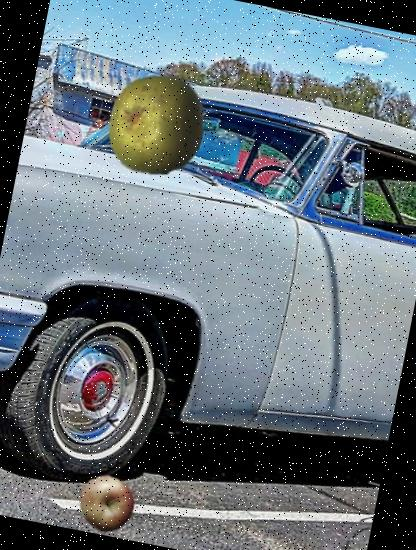Apple: (72, 470, 140, 538)
Pomelo: (96, 64, 216, 184)
